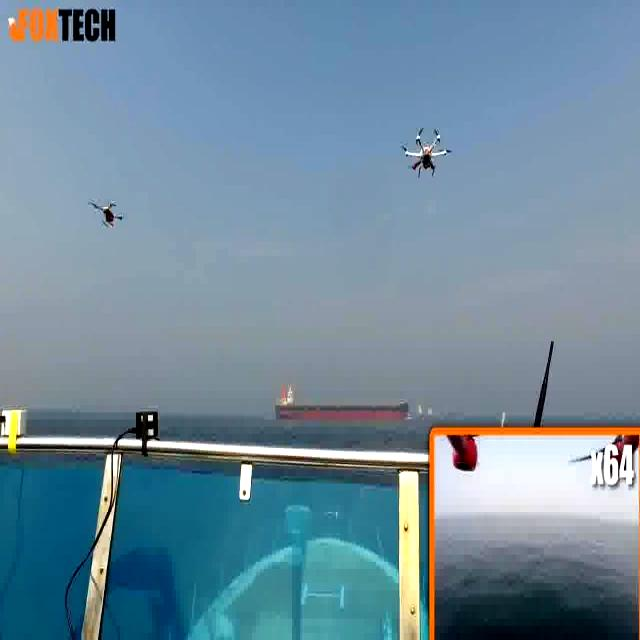drone: (401, 124, 452, 182), (90, 196, 124, 231)
